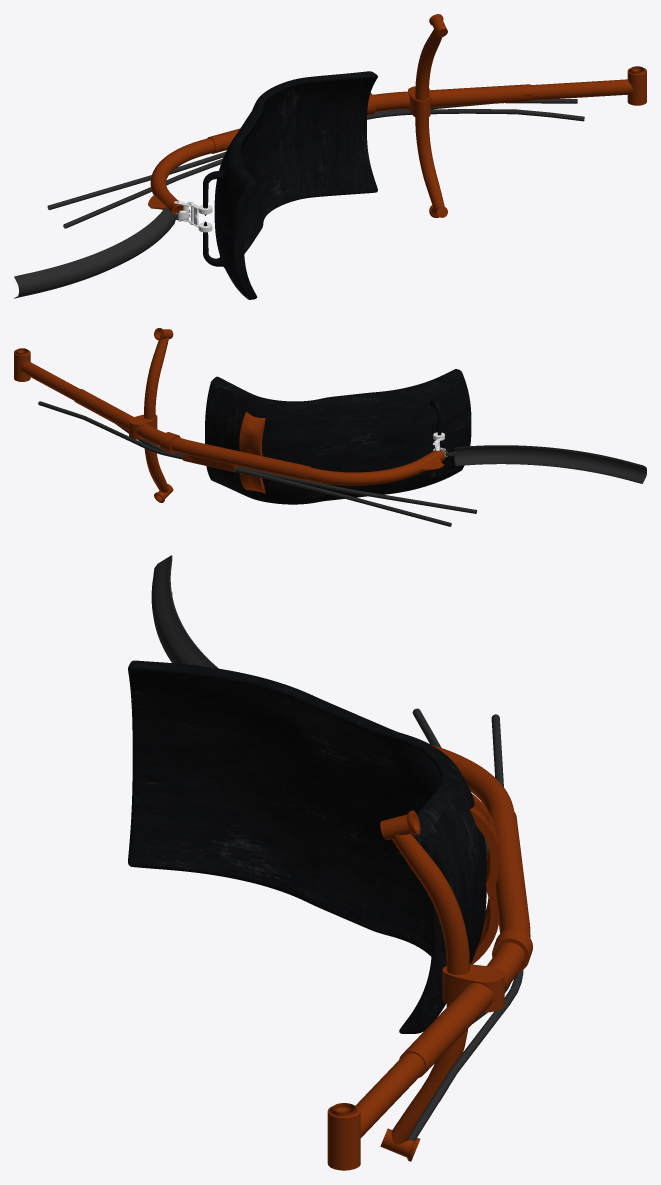
File: Chassis.glb
3 views of the same model, one above another, from view 1: azimuth 30°, elevation 25°; view 2: azimuth 150°, elevation 25°; view 3: azimuth 270°, elevation 25° (orthographic). The views are drawn at different scales.
Parts seen in each view (by area): view 1: Seat, Mud Guard_1, Middle Tube_1, Front Wheel Axle_1, Chain Cover_1.001, Rear Tube_1, Front Tube_1, Chain Cover_1, Pedal Axle_1, Front Wheel Axle Bracket_1, Front Wheel Axles_1; view 2: Seat, Middle Tube_1, Mud Guard_1, Rear Tube_1, Chain Cover_1, Front Wheel Axle_1, Chain Cover_1.001, Front Tube_1, Pedal Axle_1, Front Wheel Axle Bracket_1, Front Wheel Axles_1; view 3: Seat, Middle Tube_1, Front Wheel Axle_1, Mud Guard_1, Chain Cover_1, Front Tube_1, Pedal Axle_1, Front Wheel Axle Bracket_1, Rear Tube_1, Front Wheel Axles_1.
Boxes of the visible parts, box(x1,y1,x2,y2) form: Seat: box(203, 71, 377, 299); Mud Guard_1: box(14, 207, 175, 298); Middle Tube_1: box(207, 84, 531, 153); Front Wheel Axle_1: box(415, 29, 444, 210); Chain Cover_1.001: box(63, 109, 584, 228); Rear Tube_1: box(148, 138, 215, 214); Front Tube_1: box(531, 79, 633, 100); Chain Cover_1: box(47, 99, 577, 210); Pedal Axle_1: box(627, 66, 646, 105); Front Wheel Axle Bracket_1: box(408, 86, 430, 118); Front Wheel Axles_1: box(429, 14, 447, 217); Seat: box(205, 369, 471, 504); Middle Tube_1: box(73, 389, 311, 493); Mud Guard_1: box(454, 445, 646, 483); Rear Tube_1: box(305, 449, 444, 485); Chain Cover_1: box(38, 401, 451, 526); Front Wheel Axle_1: box(144, 333, 169, 492); Chain Cover_1.001: box(116, 424, 476, 513); Front Tube_1: box(20, 361, 79, 400); Pedal Axle_1: box(14, 348, 30, 381); Front Wheel Axle Bracket_1: box(129, 414, 157, 439); Front Wheel Axles_1: box(154, 328, 173, 502); Seat: box(128, 660, 486, 1033); Middle Tube_1: box(399, 793, 532, 1077); Front Wheel Axle_1: box(391, 834, 469, 1144); Mud Guard_1: box(151, 555, 218, 668); Chain Cover_1: box(408, 714, 523, 1140); Front Tube_1: box(355, 1052, 424, 1137); Pedal Axle_1: box(327, 1103, 360, 1170); Front Wheel Axle Bracket_1: box(442, 964, 504, 1012); Rear Tube_1: box(431, 744, 513, 812); Front Wheel Axles_1: box(380, 810, 420, 1161).
Bounding box in the file's own units: 2.28 × 0.6506 × 0.684.
Materials: 4 (1 with a texture image).
